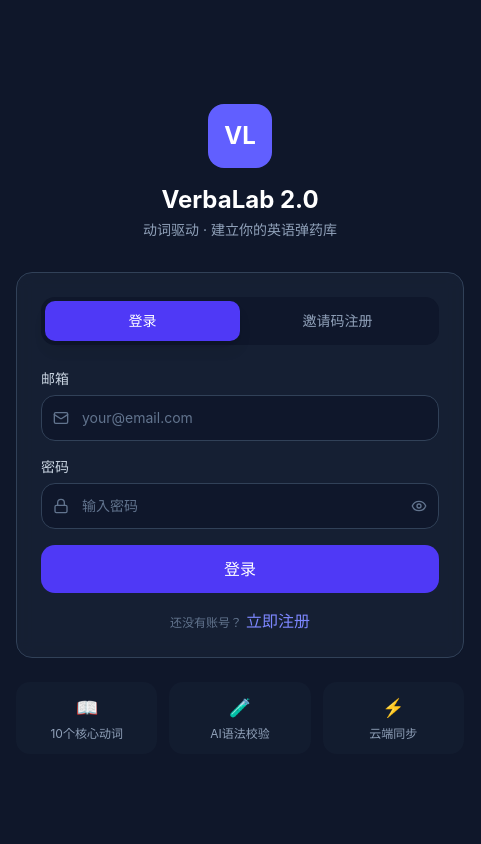
Test: AuthPage › shows invite code field only in signup mode
This screenshot has width=481, height=844.
Check: the field with placeholder "输入邀请码" is not shown
Click the button "邀请码注册" at [338, 321], box [240,301,435,341]
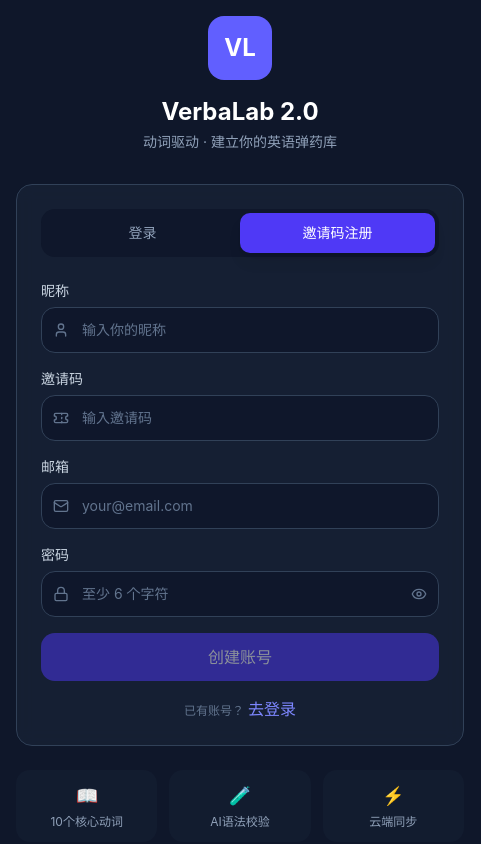
Check: the field with placeholder "输入邀请码" is shown, box [41,395,439,441]
